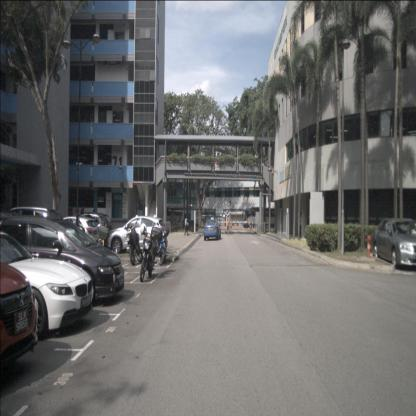human-pedestrian-adult: (184, 216, 189, 235)
vehicle-bus-rigid: (242, 207, 284, 230)
vehicle-car: (0, 215, 124, 305), (0, 231, 94, 339), (0, 260, 38, 370), (0, 206, 64, 250), (107, 215, 167, 255), (373, 217, 415, 270), (55, 215, 99, 249), (71, 212, 113, 246), (204, 219, 220, 240), (162, 220, 178, 233), (183, 220, 198, 231)
vehicle-motorcycle: (140, 228, 163, 283), (80, 226, 110, 261), (124, 222, 143, 266), (158, 227, 169, 265), (98, 221, 109, 255)
